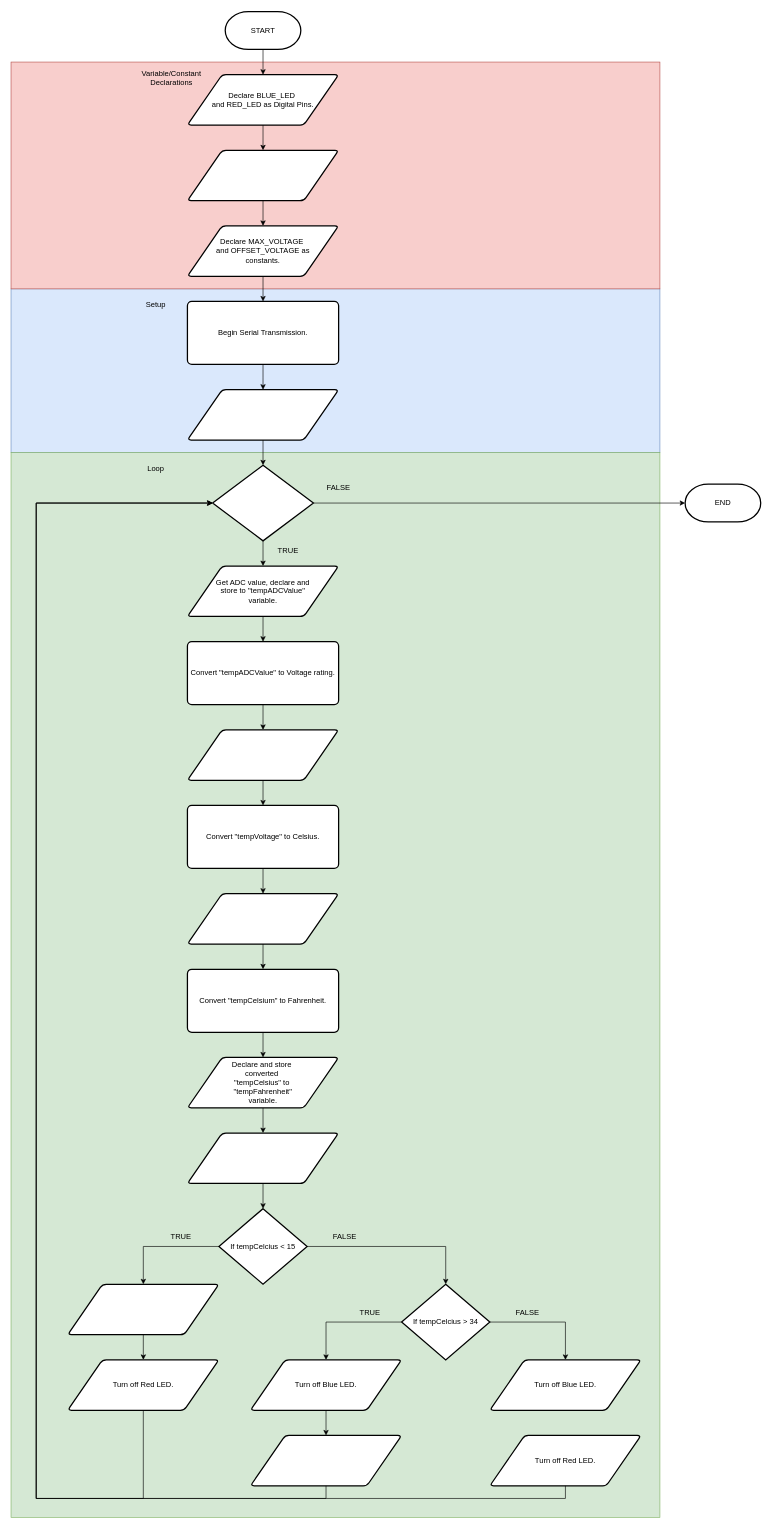
The diagram is 772 pixels wide and 1528 high, and some of its shapes have lost their labels. Here are the shapes that lost their labels. From the top down, the box of each, then its label:
(186, 149, 339, 201): Declare TMP_PIN as Analog Pin.
(186, 389, 339, 440): Declare BLUE_LED and RED_LED as Digital Output Pins.
(212, 464, 314, 541): While Project is not turned off...
(186, 729, 339, 781): Declare and store converted "tempADCValue" to "tempVoltage" variable.
(186, 893, 339, 944): Declare and store converted " tempVoltage " to "tempCelsius" variable.
(186, 1132, 339, 1184): Display values of "tempCelsius" and "tempFahrenheit" variables.
(67, 1283, 219, 1335): Turn on Blue LED.
(249, 1435, 402, 1486): Turn on Red LED.
